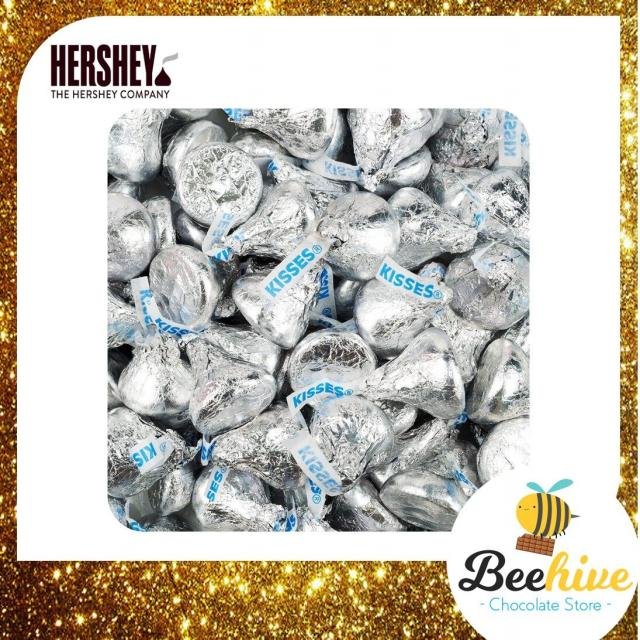kisses: (167, 312, 286, 432), (377, 433, 490, 535), (115, 317, 210, 432), (227, 256, 336, 356), (286, 328, 392, 426), (370, 333, 480, 424), (382, 179, 488, 269), (352, 251, 444, 352), (319, 187, 408, 286), (437, 236, 530, 330), (276, 424, 383, 503), (168, 139, 262, 227), (192, 458, 299, 530), (462, 327, 528, 423), (150, 244, 220, 328), (106, 189, 161, 282)
